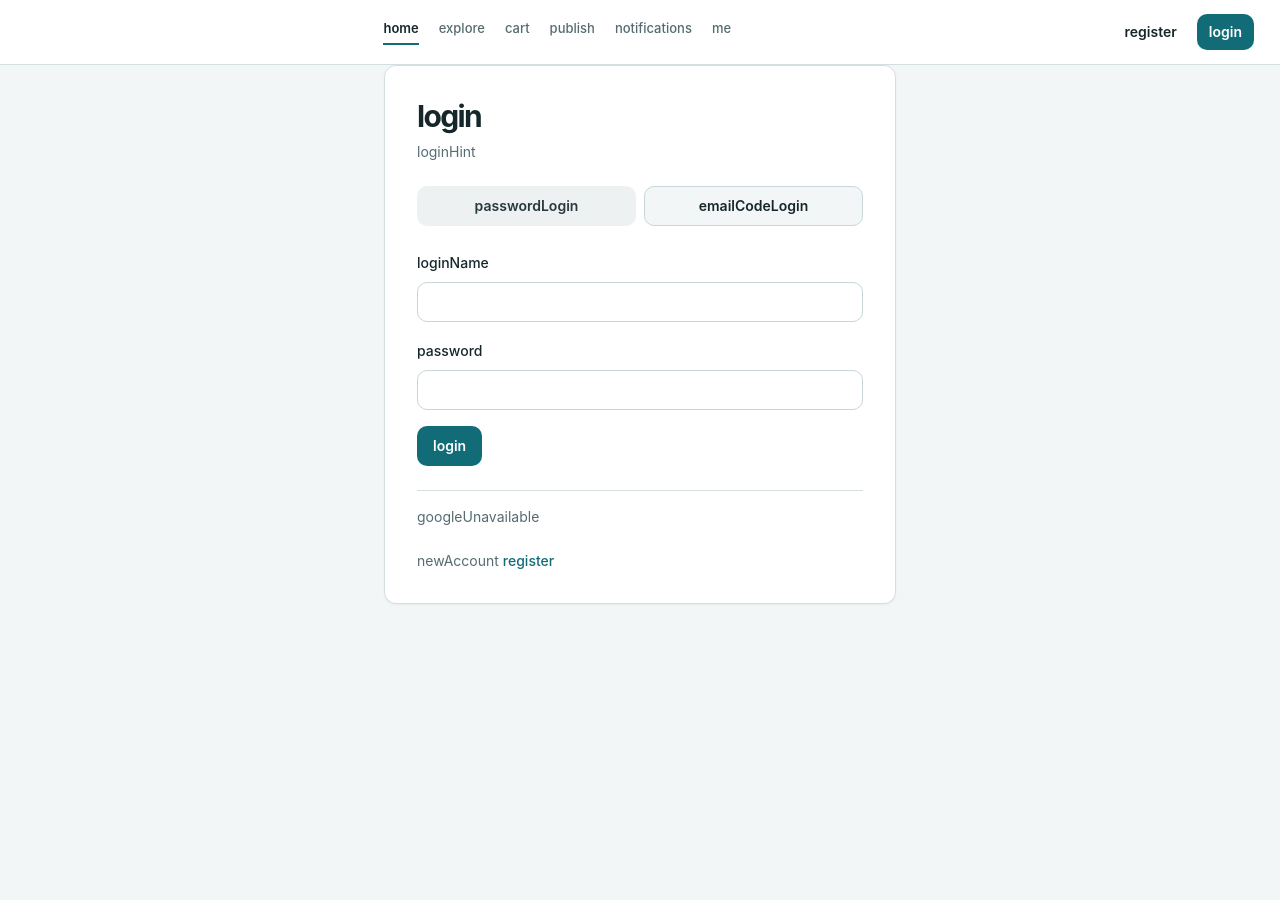
Test: exposes registration from the header, login dialog, and login page
The image size is (1280, 900).
Check: the text "googleUnavailable" is shown, box [417,508,539,525]
Click the button "login" in the row of "notifications".
click(1225, 32)  # box [1197,14,1254,50]
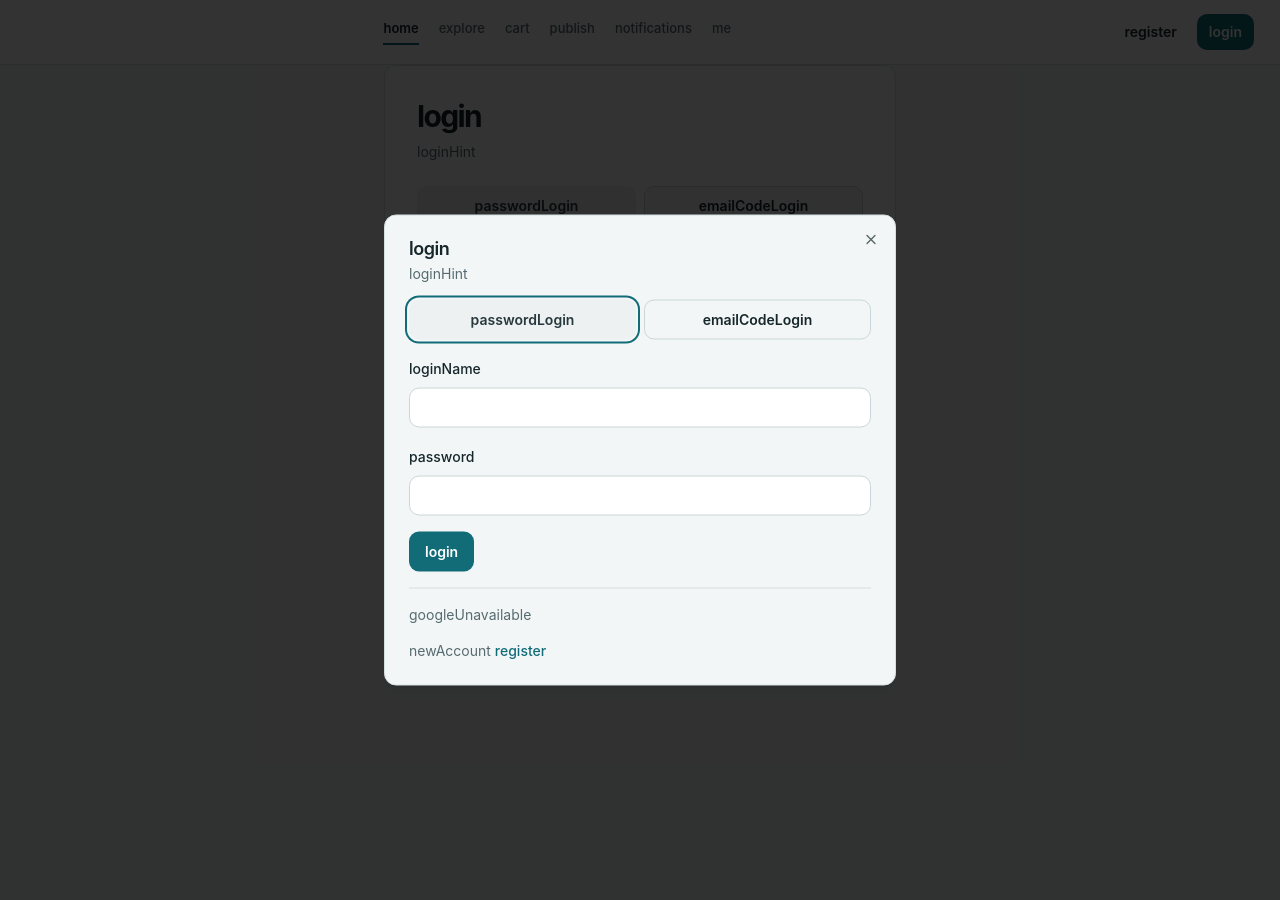
Check: the text "googleUnavailable" is shown, box [409,606,531,622]
